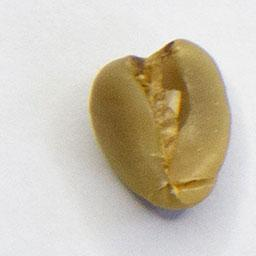defect: (87, 36, 233, 213)
